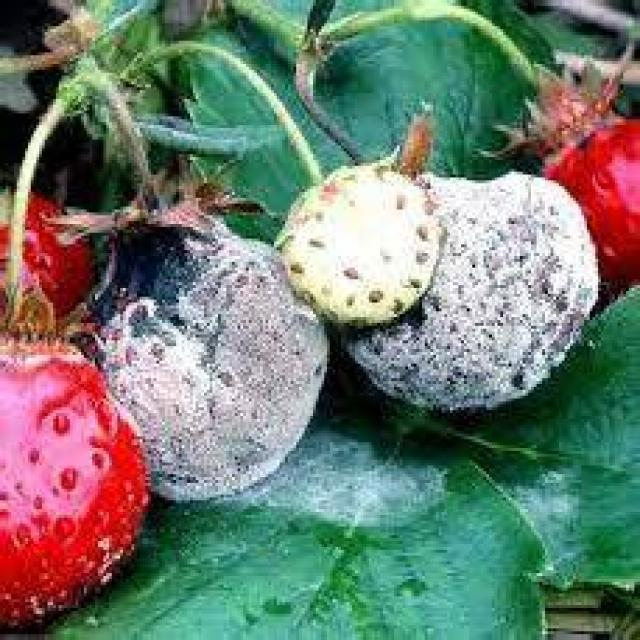Fruta sana: (0, 335, 145, 628), (536, 87, 640, 290), (3, 184, 92, 330)
Oído: (360, 158, 606, 424), (91, 244, 332, 496)
